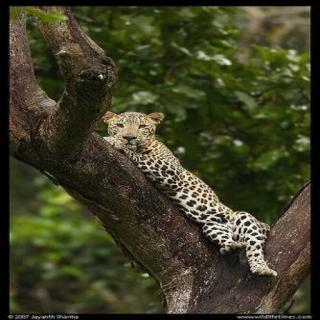Leopard: (52, 86, 280, 284)
